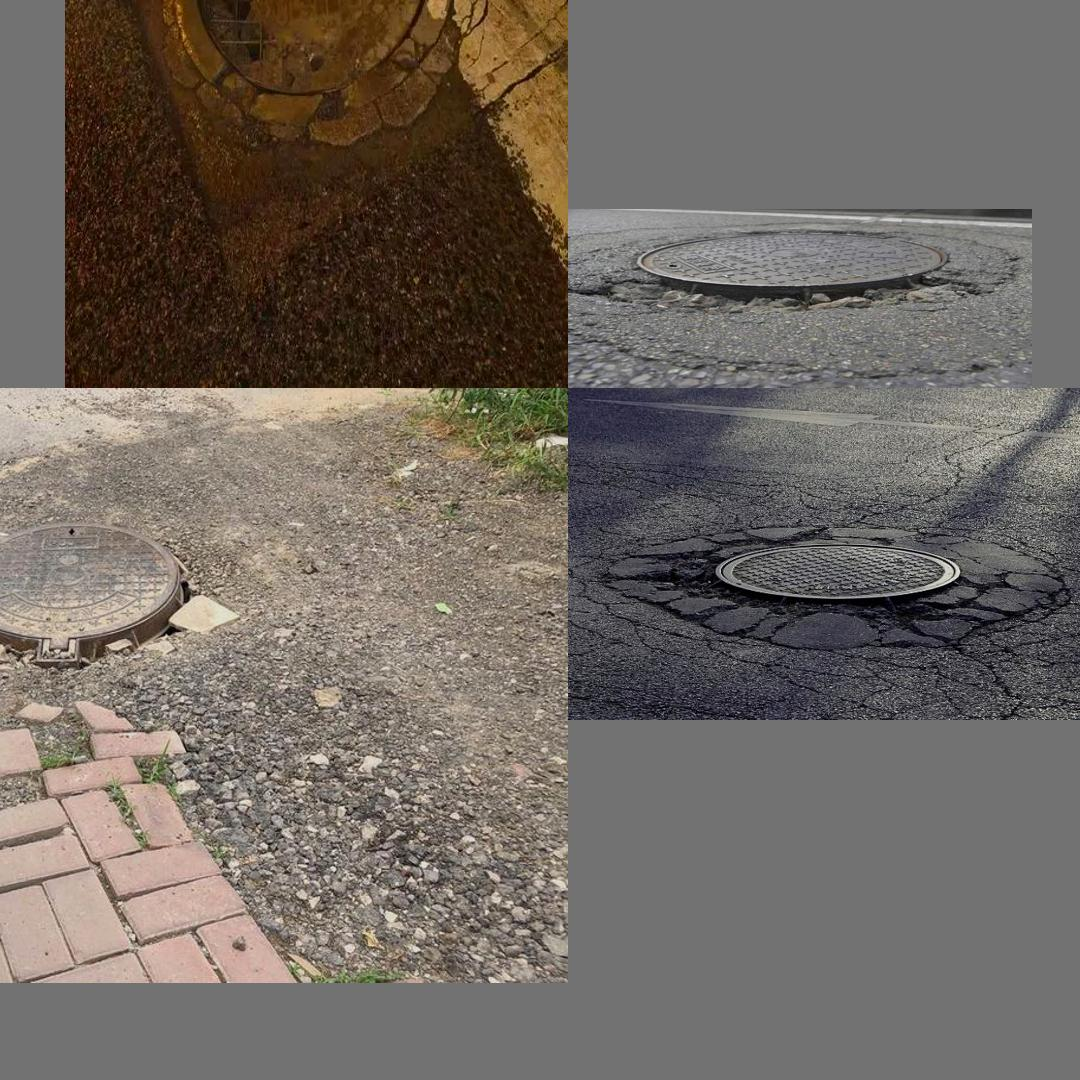circle: (112, 0, 531, 225), (628, 510, 1073, 664), (0, 480, 259, 717), (584, 225, 1016, 319)
